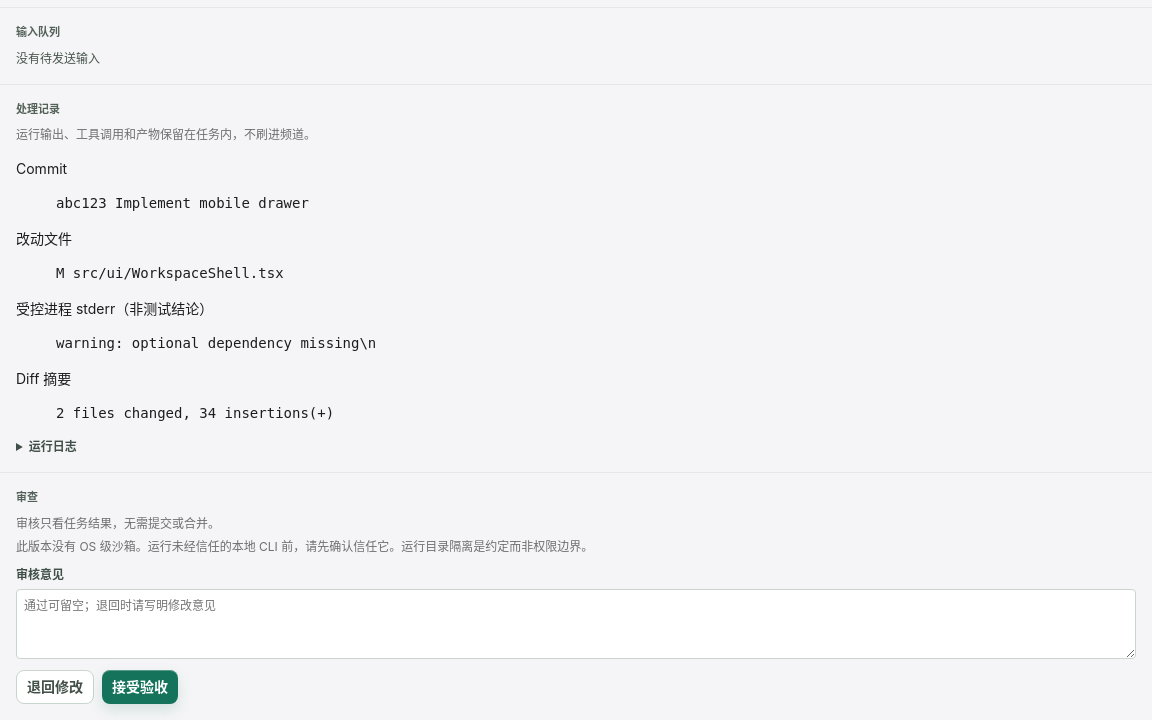
Scenario: TaskDetailPanel › shows review boundaries without claiming an OS sandbox or automatic repository actions
(page scrolled)
Expected: the heading "输入队列" is shown, [16,25,60,39]
Expected: the heading "处理记录" is shown, [16,102,60,116]
Click the button "接受验收": (140, 686) [102,670,178,704]
(page scrolled)
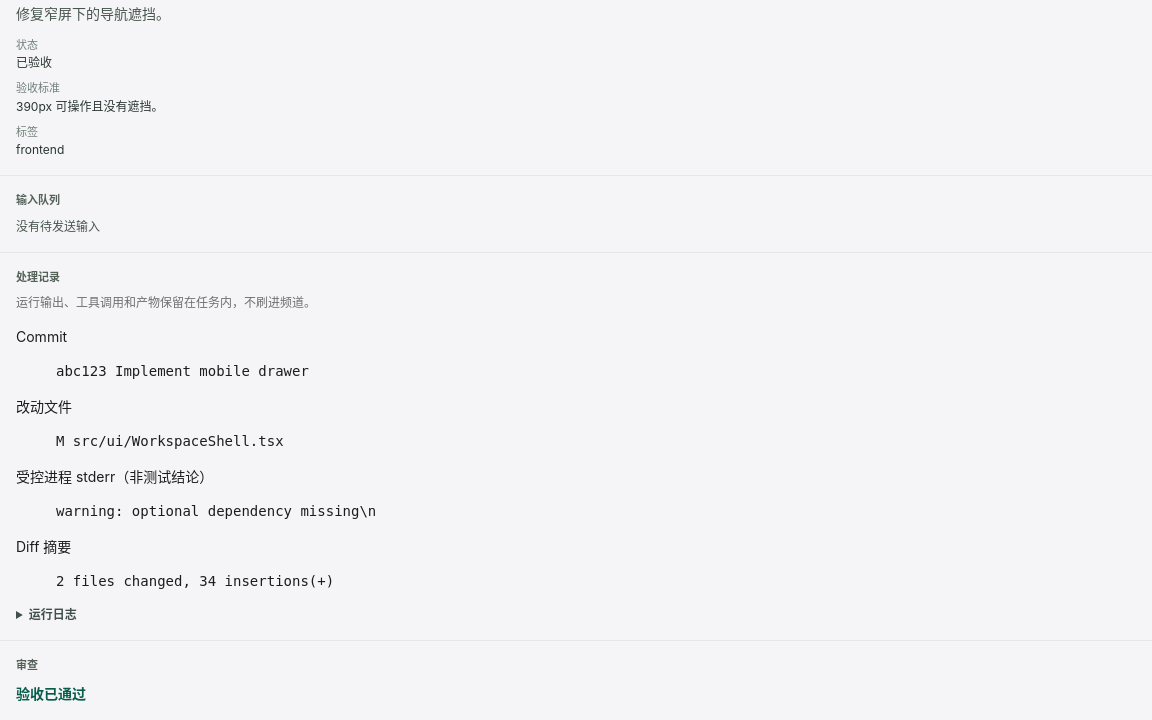
Expected: the text "验收已通过" is shown, [16,684,86,702]
